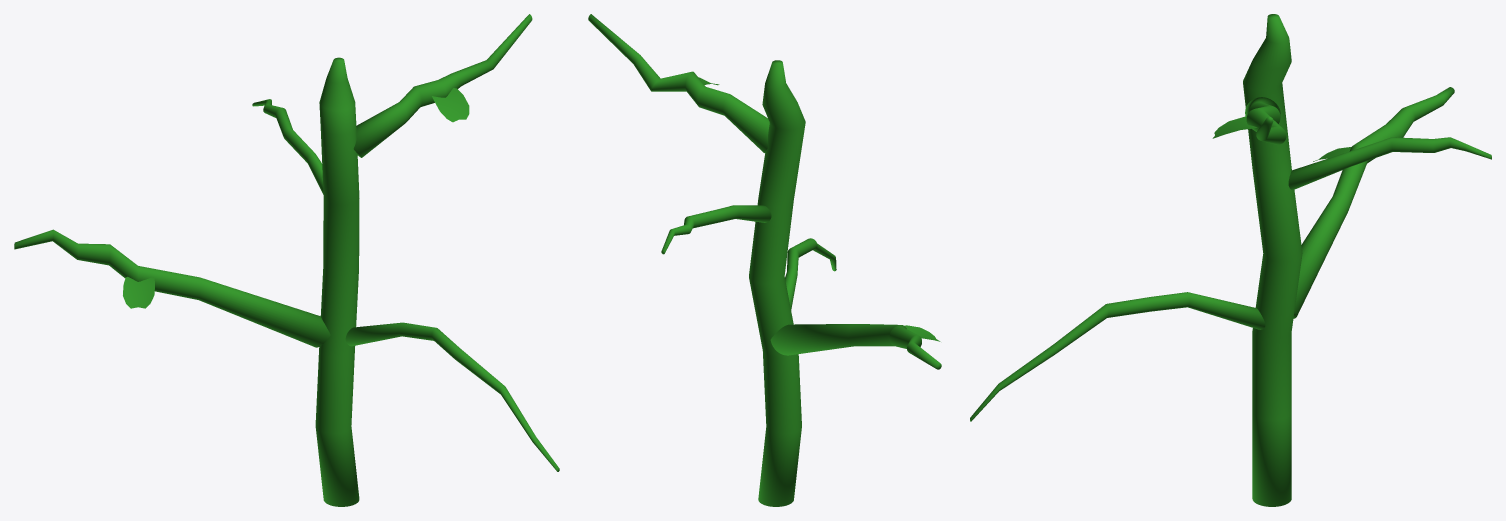
Rendered from SoyBeanSeedling.fbx.
3 renders of one model, left to right at view 1: azimuth 30°, elevation 25°; view 2: azimuth 150°, elevation 25°; view 3: azimuth 270°, elevation 25°, orthographic. The views are drawn at different scales.
Parts seen in each view (by area): view 1: Cylinder, Cylinder.020, Cylinder.001, Cylinder.031, Cylinder.026, Plane, Plane.001; view 2: Cylinder, Cylinder.020, Cylinder.001, Cylinder.026, Cylinder.031; view 3: Cylinder, Cylinder.020, Cylinder.031, Cylinder.026, Cylinder.001.
Part boxes in pixels (box(x1,y1,x2,y2)): Cylinder: box(315, 57, 359, 506); Cylinder.020: box(14, 229, 330, 347); Cylinder.001: box(353, 14, 532, 157); Cylinder.031: box(345, 322, 559, 471); Cylinder.026: box(252, 99, 323, 194); Plane: box(123, 276, 154, 308); Plane.001: box(432, 88, 469, 122); Cylinder: box(749, 60, 805, 506); Cylinder.020: box(770, 324, 941, 369); Cylinder.001: box(588, 14, 769, 152); Cylinder.026: box(661, 205, 771, 254); Cylinder.031: box(785, 238, 836, 310); Cylinder: box(1243, 14, 1302, 506); Cylinder.020: box(1293, 87, 1454, 318); Cylinder.031: box(970, 292, 1265, 421); Cylinder.026: box(1288, 137, 1491, 190); Cylinder.001: box(1245, 97, 1286, 144).
Bounding box in the file's own units: 254 × 246 × 242.
